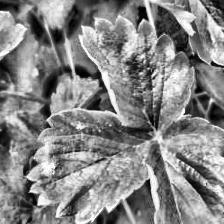Powdery Mildew Leaf: (25, 107, 163, 224), (78, 15, 195, 133), (144, 112, 224, 224), (136, 0, 224, 68)
